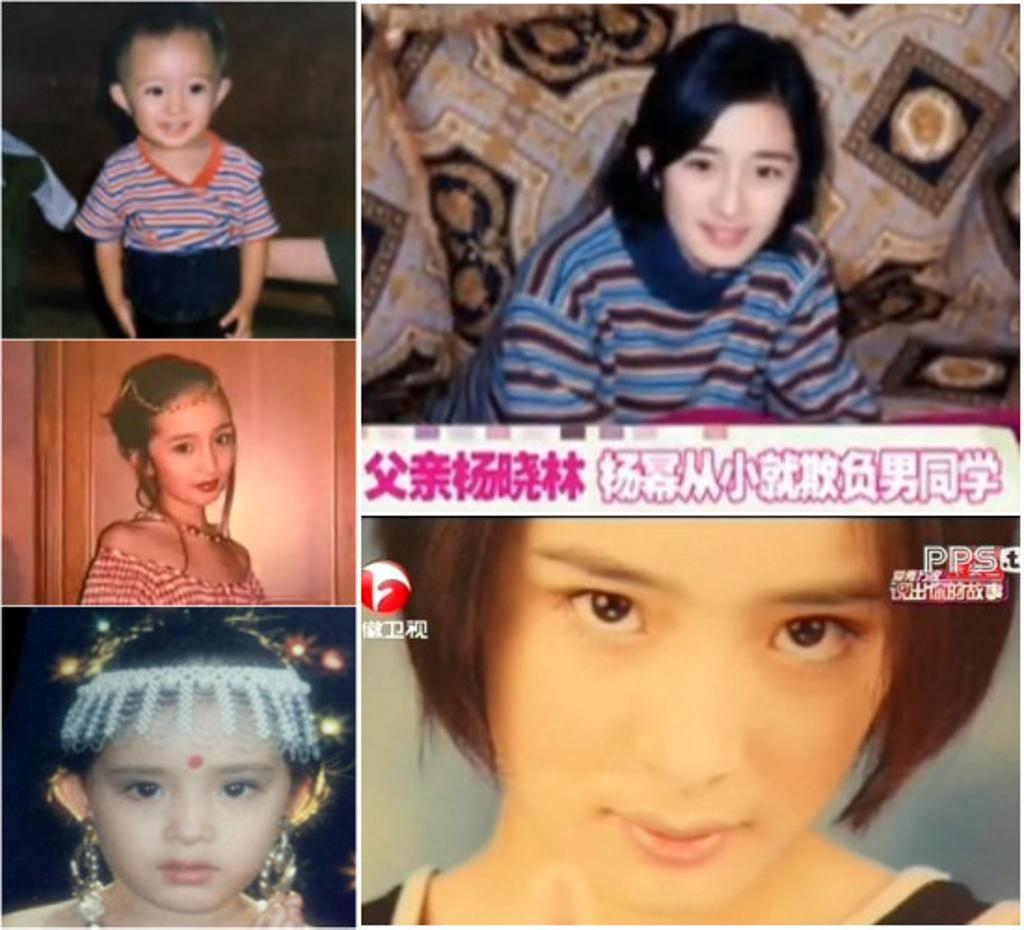face: (510, 400, 894, 916), (100, 678, 288, 914), (670, 94, 792, 264), (158, 382, 234, 510), (130, 32, 210, 142)
